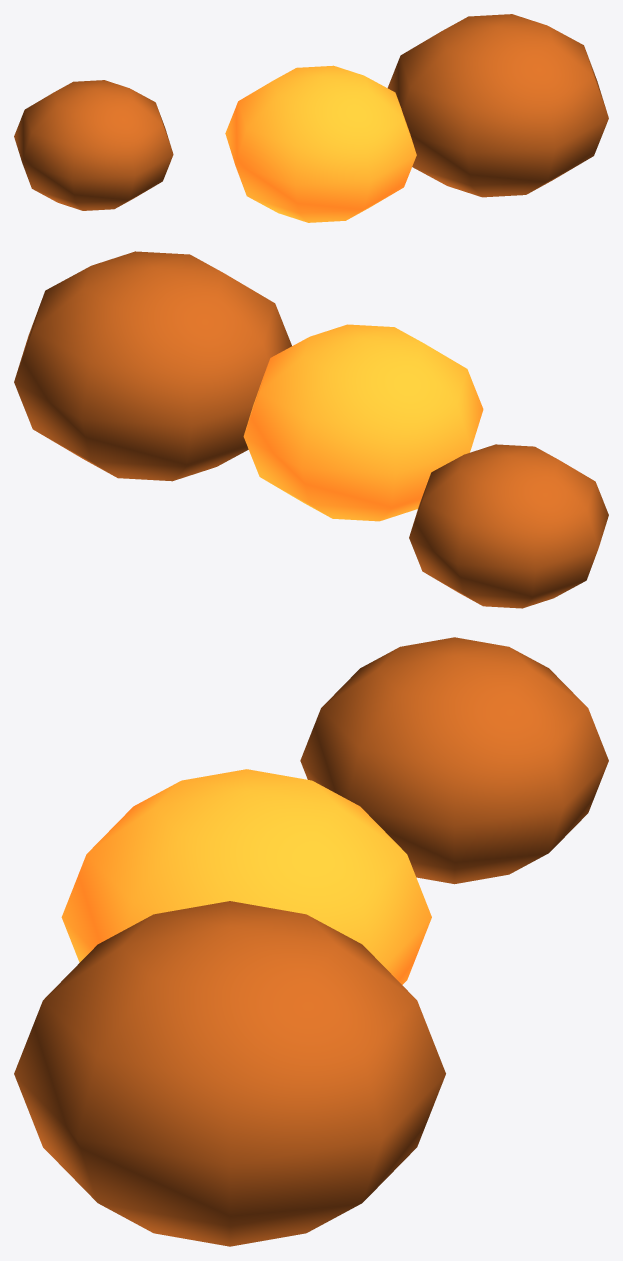
File: prop-pumpkin.glb
The picture shows the model from 3 angles, top to bottom: view 1: azimuth 30°, elevation 25°; view 2: azimuth 150°, elevation 25°; view 3: azimuth 270°, elevation 25°; orthographic projection. The views are drawn at different scales.
Parts seen in each view (by area): view 1: 02_#e07020_r320, 01_#e07020, 00_#e07020_r110; view 2: 02_#e07020_r320, 01_#e07020, 00_#e07020_r110; view 3: 02_#e07020_r320, 00_#e07020_r110, 01_#e07020.
Part boxes in pixels (bbox=[...]): 02_#e07020_r320: bbox=[387, 14, 608, 197]; 01_#e07020: bbox=[225, 65, 416, 222]; 00_#e07020_r110: bbox=[14, 80, 173, 210]; 02_#e07020_r320: bbox=[14, 251, 291, 481]; 01_#e07020: bbox=[243, 324, 483, 521]; 00_#e07020_r110: bbox=[409, 444, 608, 608]; 02_#e07020_r320: bbox=[14, 901, 445, 1246]; 00_#e07020_r110: bbox=[300, 637, 608, 884]; 01_#e07020: bbox=[61, 769, 431, 984].
Size of the model in its own units: 1.8 by 0.525 by 0.9637.
